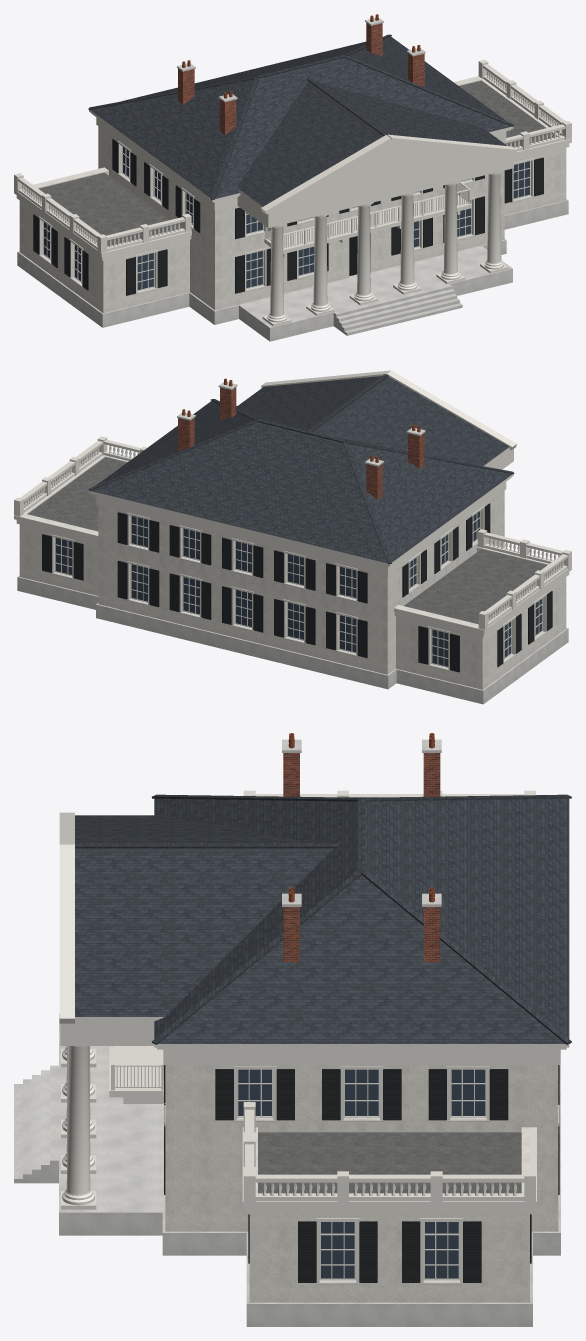
Rendered from columned-mansion.glb.
3 views of the same model, one above another, from view 1: azimuth 30°, elevation 25°; view 2: azimuth 150°, elevation 25°; view 3: azimuth 270°, elevation 25° (orthographic). The views are drawn at different scales.
Visible parts, largest first — view 1: Columned_Mansion; view 2: Columned_Mansion; view 3: Columned_Mansion.
Boxes of the visible parts, x1,y1,x2,y2 form: Columned_Mansion: [14, 14, 571, 341]; Columned_Mansion: [14, 370, 571, 704]; Columned_Mansion: [14, 733, 571, 1326].
Bounding box in the file's own units: 32.54 × 12.69 × 19.89.
Materials: 14 (6 with a texture image).
